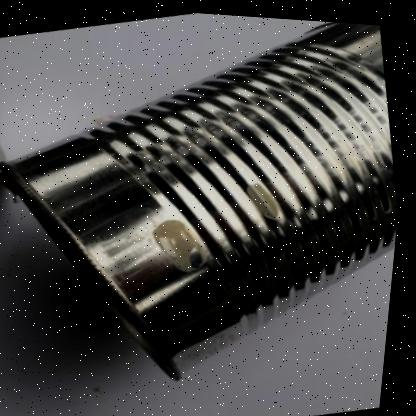Metal: (1, 18, 402, 376)
